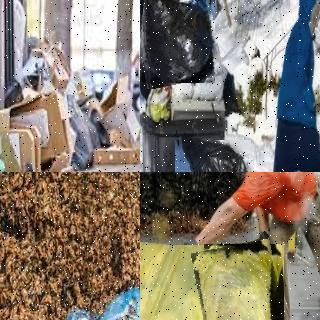Garbage: (197, 241, 290, 320), (140, 0, 219, 86), (140, 242, 223, 320), (173, 138, 253, 172), (86, 278, 140, 320)
